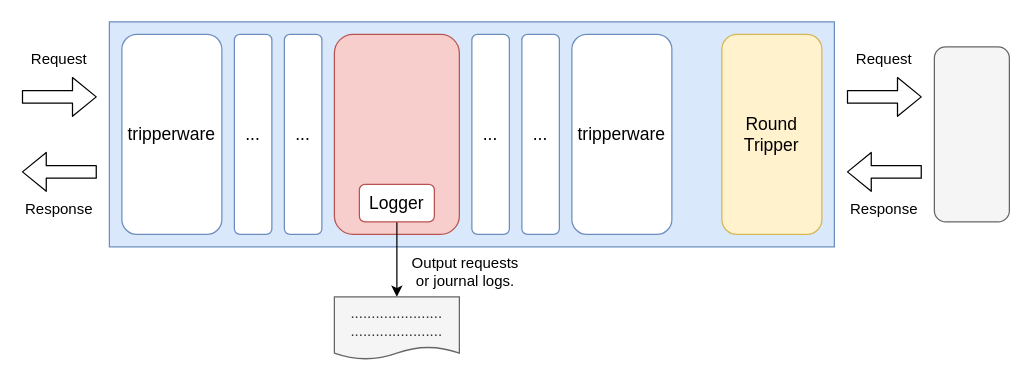
The diagram is 1031 pixels wide and 381 high, and some of its shapes have lost their labels. The box of each missing label's shape, as (x1, y1, x2, y2) in pixels:
External service: (933, 46, 1009, 222)
HTTPLogger (tripperware): (333, 33, 459, 234)
